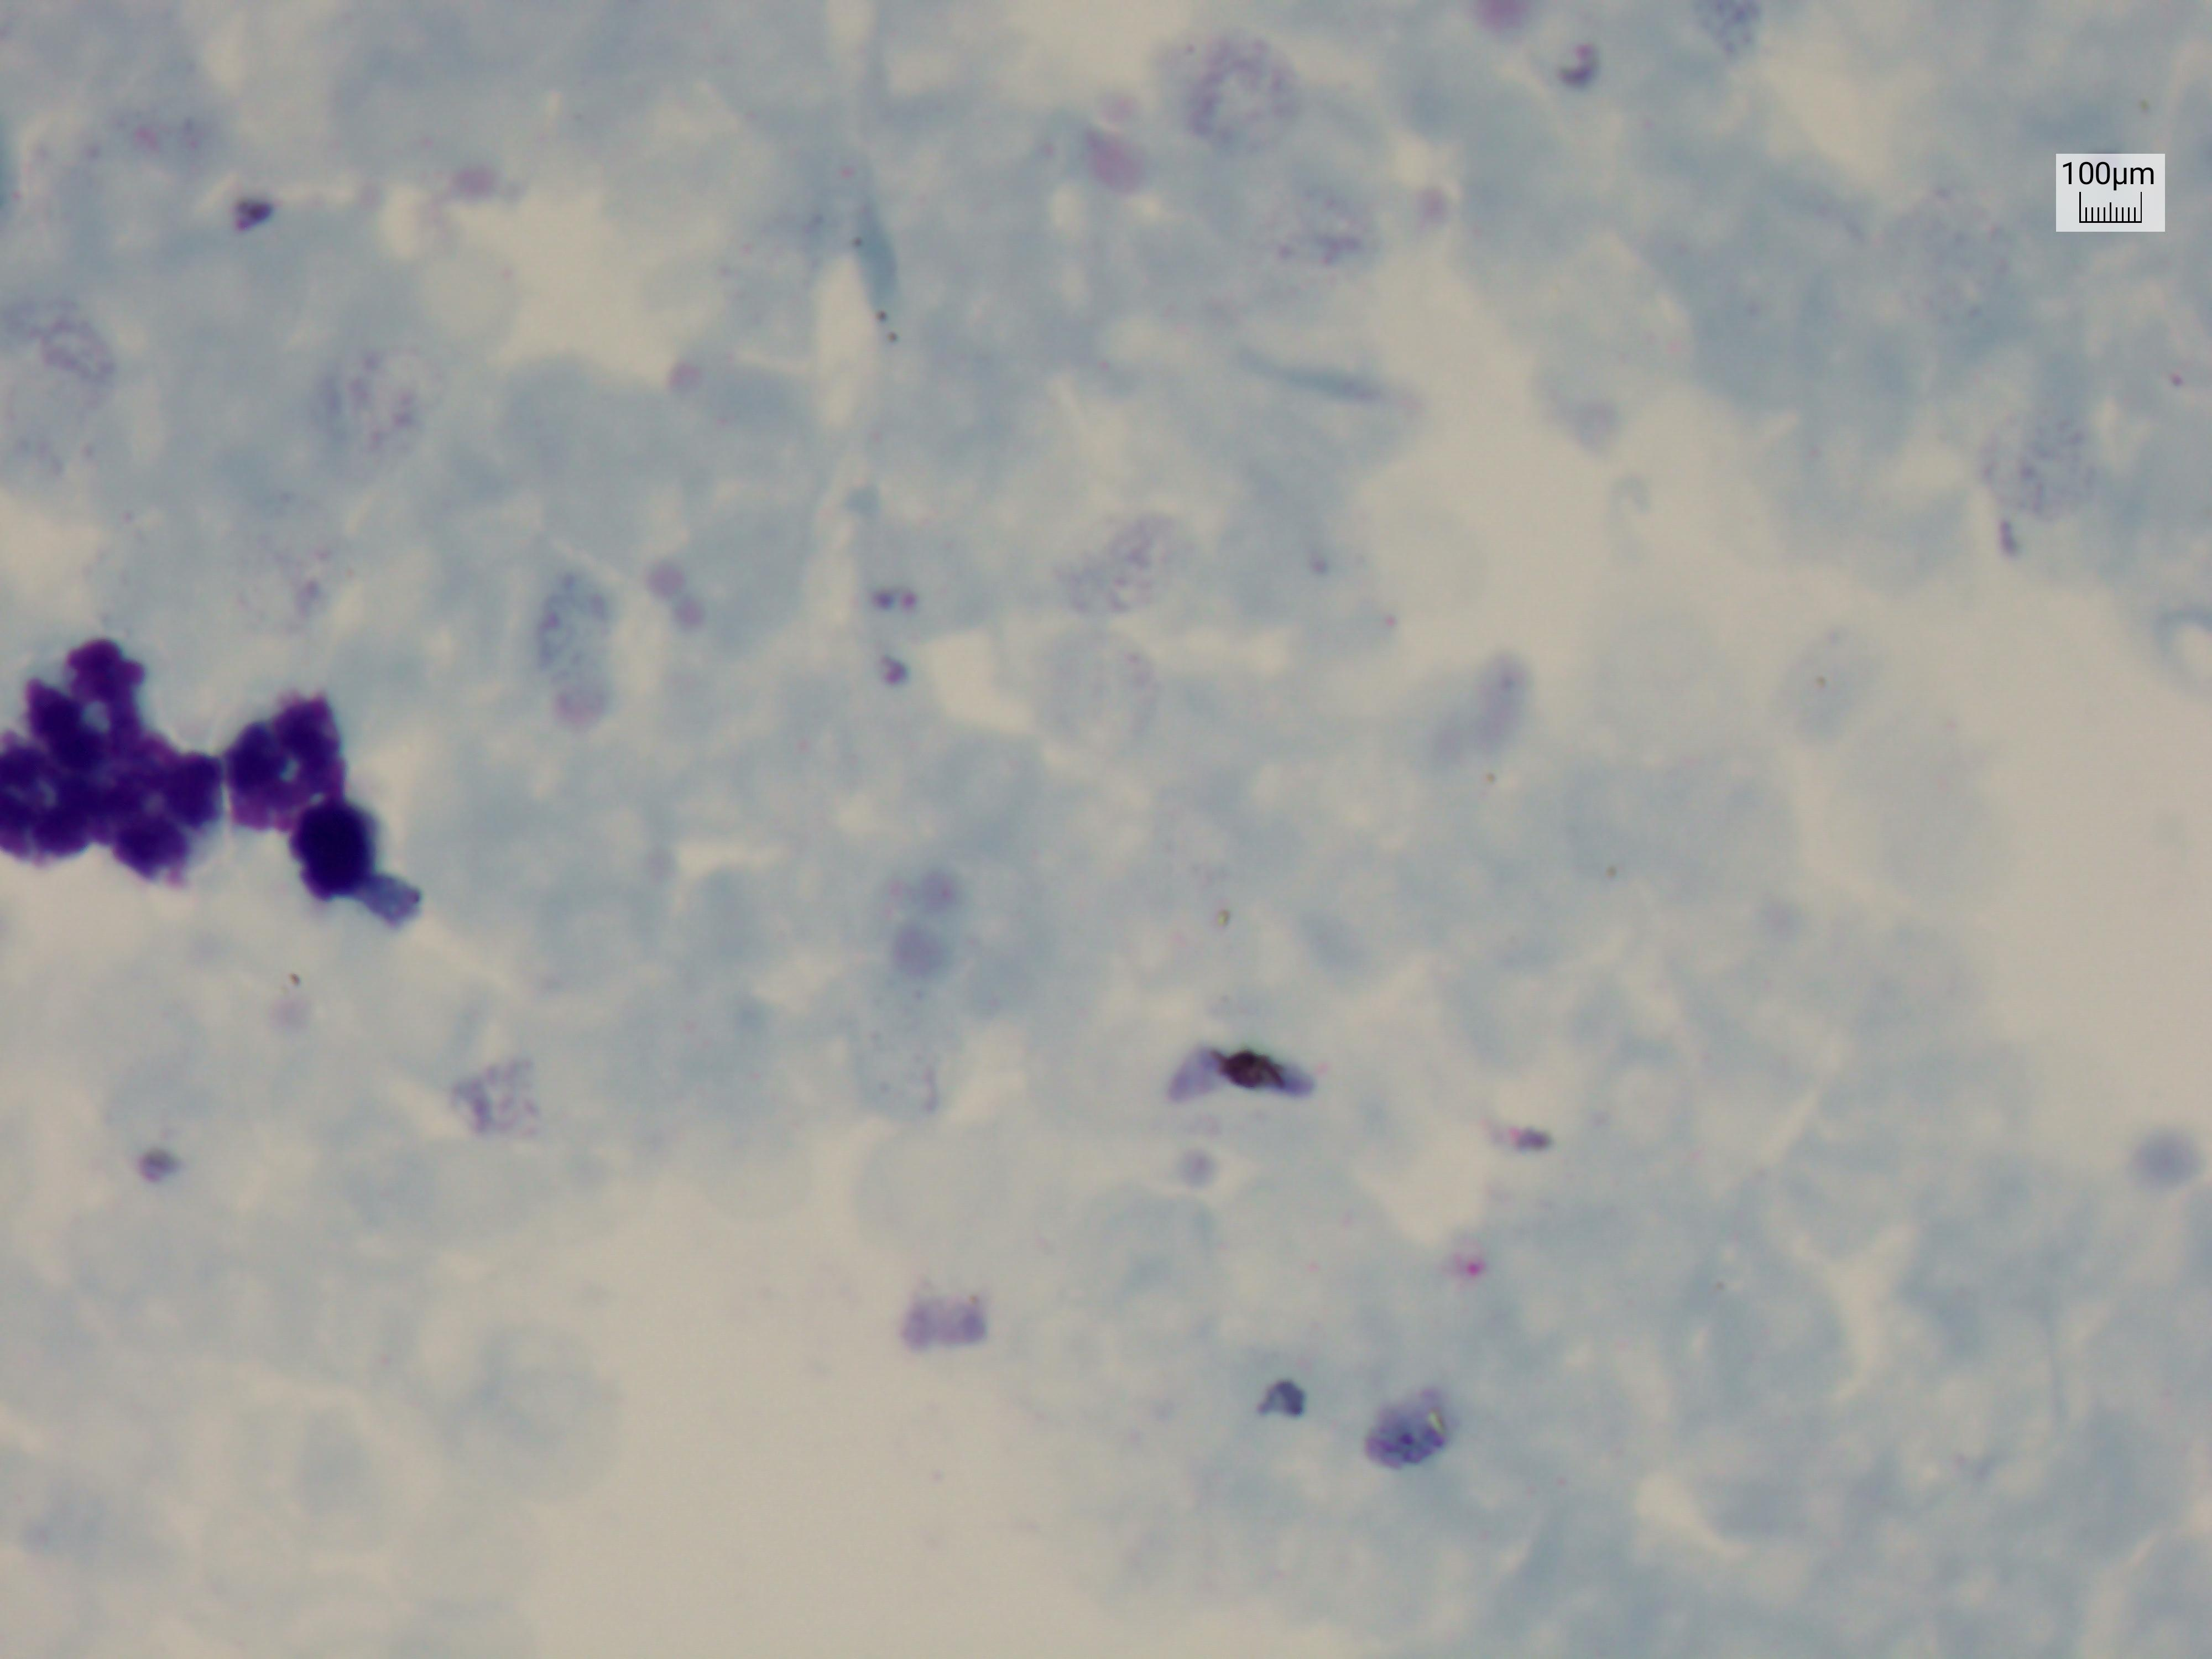p.falciparum: (1143, 1035, 1332, 1131), (862, 573, 996, 655), (197, 160, 303, 254)
